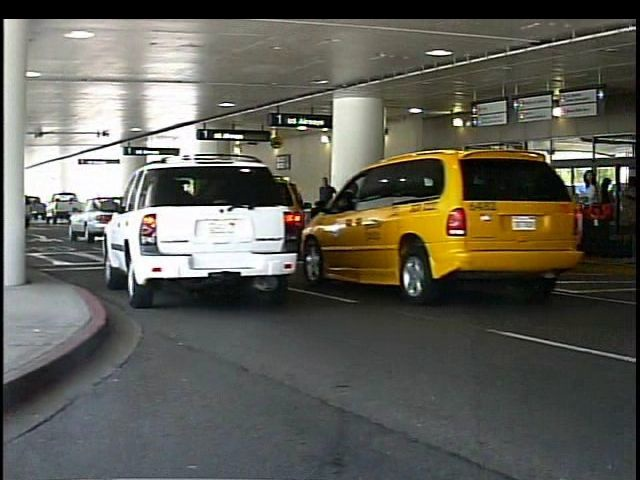person: (502, 168, 531, 261), (578, 169, 606, 262), (317, 172, 344, 246), (598, 176, 618, 245)
